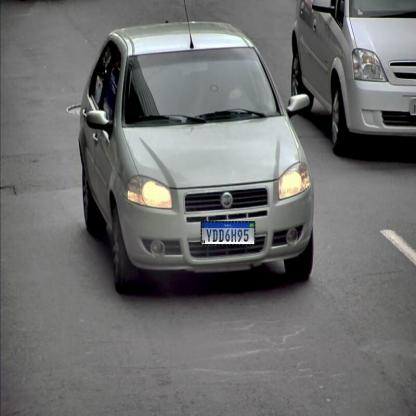PlacaM: (201, 221, 255, 246)
